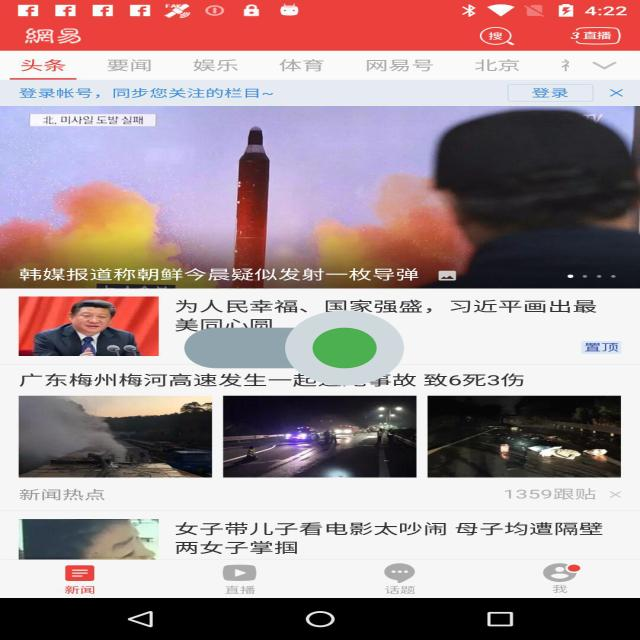social proof: (184, 278, 404, 418)
